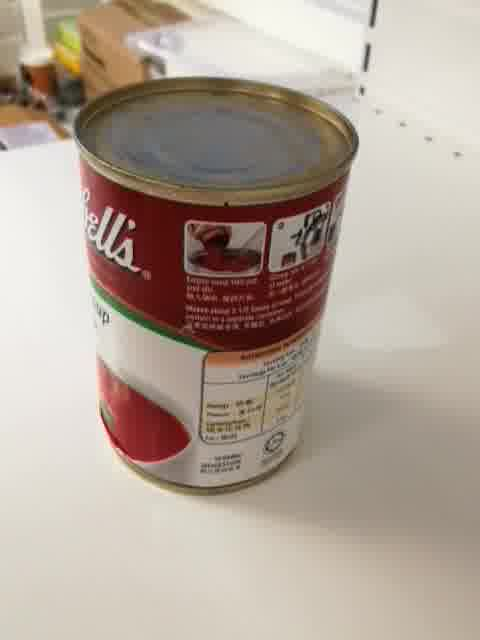tomatosoup: (73, 73, 361, 501)
